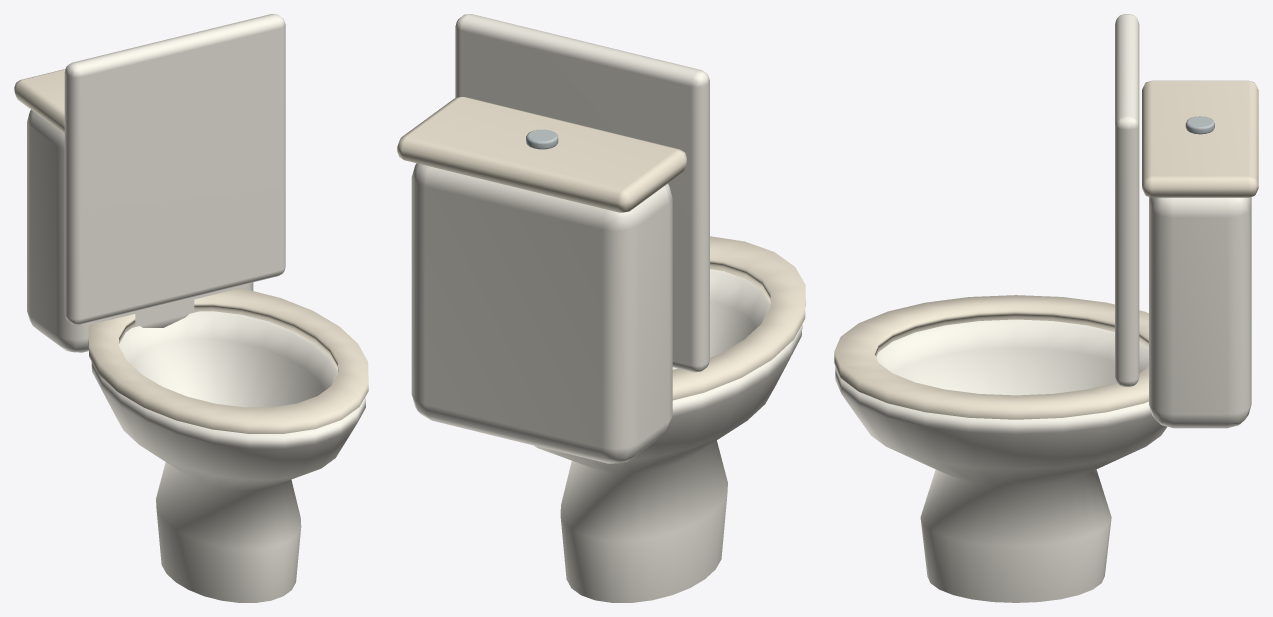
File: Restroom_Toilet.glb
3 views of the same model, side by side, from view 1: azimuth 30°, elevation 25°; view 2: azimuth 150°, elevation 25°; view 3: azimuth 270°, elevation 25° (orthographic). The views are drawn at different scales.
Visible parts, largest first — view 1: Restroom_Toilet__Visual, Seat_Lid_Hinge__Visual; view 2: Restroom_Toilet__Visual, Seat_Lid_Hinge__Visual; view 3: Restroom_Toilet__Visual, Seat_Lid_Hinge__Visual.
Boxes of the visible parts, bbox=[...] form: Restroom_Toilet__Visual: bbox=[14, 69, 368, 602]; Seat_Lid_Hinge__Visual: bbox=[64, 14, 285, 324]; Restroom_Toilet__Visual: bbox=[397, 97, 805, 602]; Seat_Lid_Hinge__Visual: bbox=[455, 14, 709, 372]; Restroom_Toilet__Visual: bbox=[834, 80, 1258, 602]; Seat_Lid_Hinge__Visual: bbox=[1115, 14, 1139, 386].
Bounding box in the file's own units: 0.491 × 1.04 × 0.7828.
Materials: 1 (1 with a texture image).
